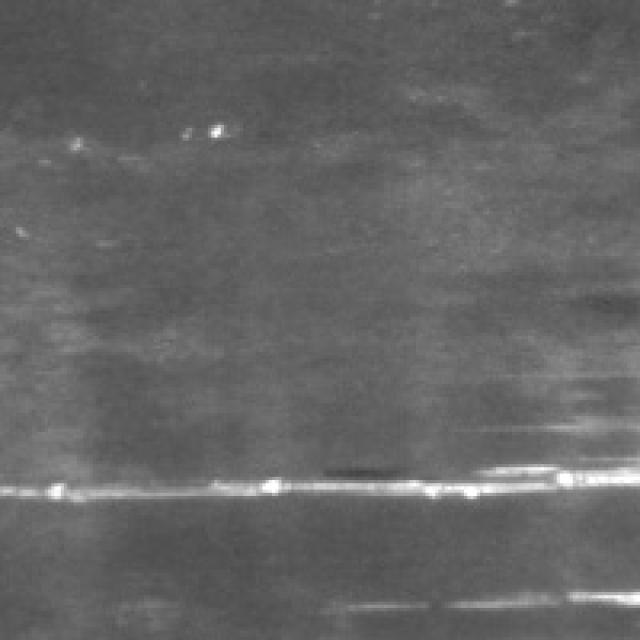scratches: (10, 441, 640, 505), (365, 576, 640, 614)
